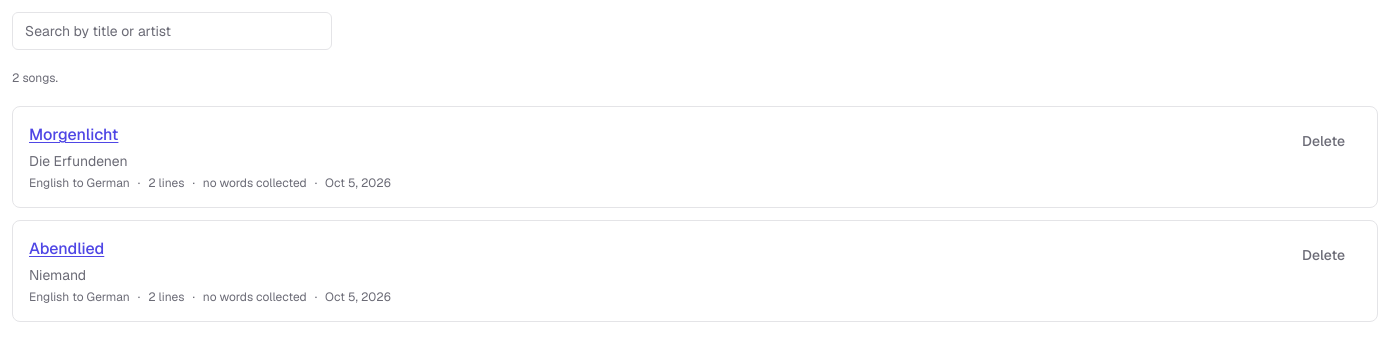
Test: SongLibrary › search › says how many of the total are shown
Expected: the number of list items is 2, [12,106,1377,208]; [12,220,1377,322]
Type "abend" into the search field named "Search songs".
click(172, 31); type("abend")  # box [12,12,332,50]
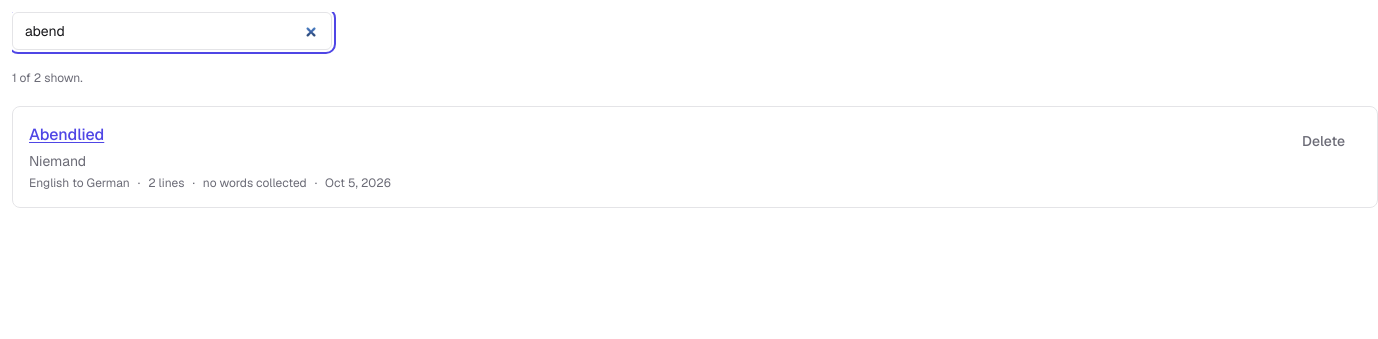
Now the text "1 of 2 shown." is shown, box [12,70,83,86]
